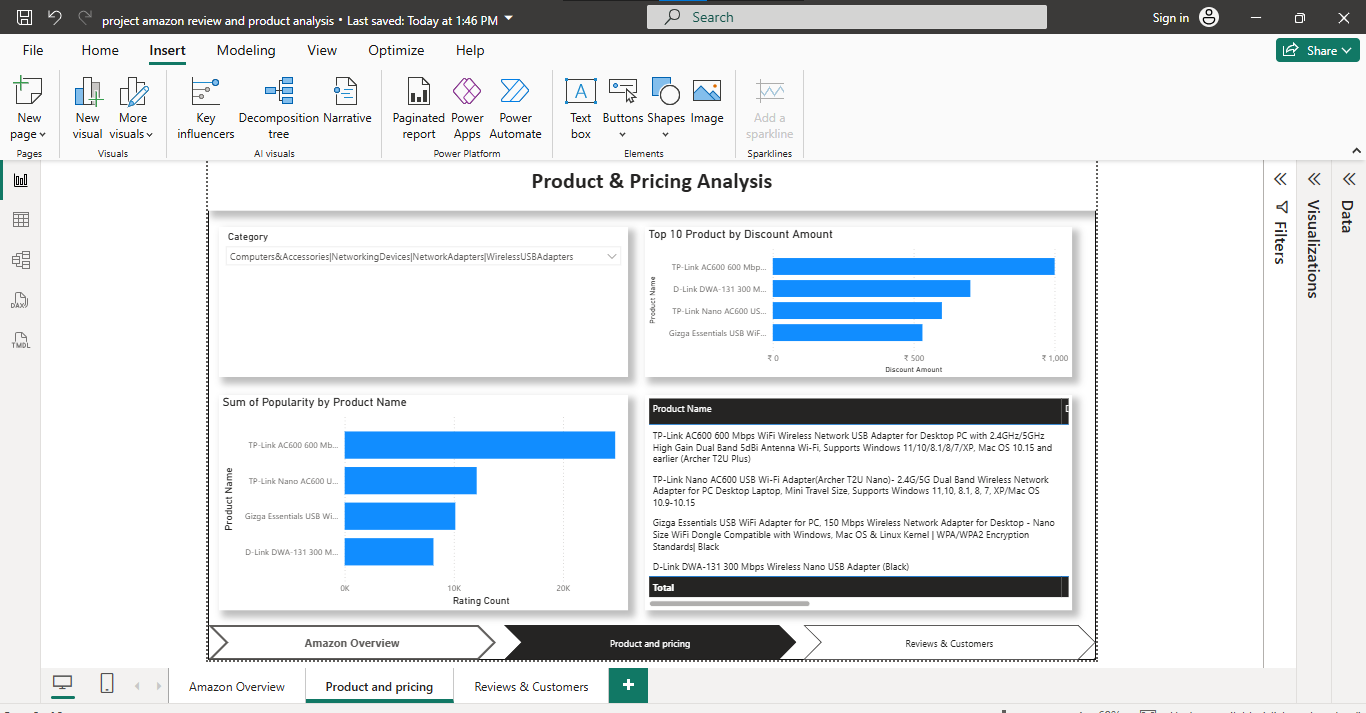

The dashboard page shown, as its layout file describes it:
{"tool":"powerbi","page":{"name":"Product and pricing","canvas":[1280,720],"ordinal":1},"visuals":[{"type":"slicer","fields":{"Values":["products.Category"]},"box":[15.8,96.5,589,216],"z":0},{"type":"clusteredBarChart","fields":{"Category":["products.Product Name"],"Y":["Sum(products.Popularity)"]},"box":[15.8,338.4,589,309.6],"z":1000},{"type":"clusteredBarChart","title":"Top 10  Product by Discount Amount","fields":{"Category":["products.Product Name"],"Y":["products.Discount Amount"]},"box":[629.3,96.5,614.9,216],"z":2000},{"type":"tableEx","fields":{"Values":["products.Product Name","Sum(products.Discount Percentage)","Sum(products.Popularity)","products.Category","Sum(products.Product rating)","Sum(products.Original Price)","Sum(products.Selling price)"]},"box":[629.3,338.4,614.9,309.6],"z":3000},{"type":"textbox","box":[0,0,1280.2,73.4],"z":4000},{"type":"bookmarkNavigator","box":[0,0,600,50],"z":5000},{"type":"pageNavigator","box":[426.2,669.6,853.9,50.4],"z":5001},{"type":"actionButton","box":[0,669.6,414.7,50.4],"z":5002}]}

Visuals, with their boxes on the page's 1280x720 design canvas (x1, y1, x2, y2). These are canvas units, not pixel positions in the 1366x713 screenshot, which may show the page scaled, cropped or inside an application window:
slicer - products.Category: bbox=[16, 96, 605, 312]
clusteredBarChart - products.Product Name x Sum(products.Popularity): bbox=[16, 338, 605, 648]
"Top 10  Product by Discount Amount" clusteredBarChart: bbox=[629, 96, 1244, 312]
tableEx - products.Product Name x Sum(products.Discount Percentage): bbox=[629, 338, 1244, 648]
textbox: bbox=[0, 0, 1280, 73]
bookmarkNavigator: bbox=[0, 0, 600, 50]
pageNavigator: bbox=[426, 670, 1280, 720]
actionButton: bbox=[0, 670, 415, 720]
